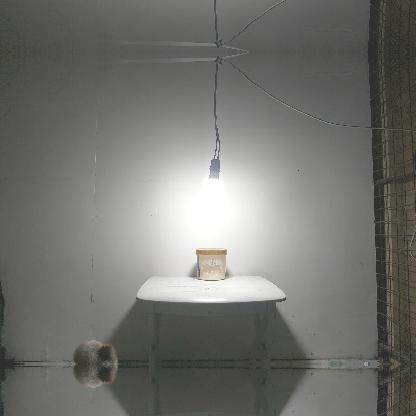Lady-s-Choice: (194, 246, 228, 280)
